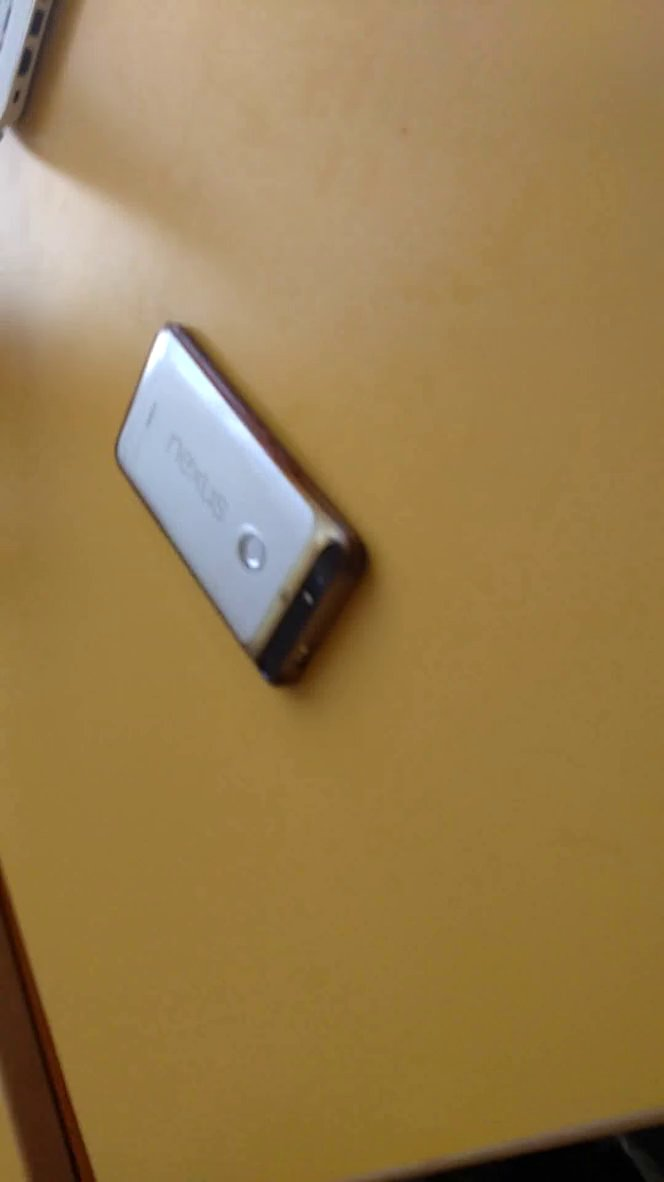phone: (94, 306, 408, 713)
